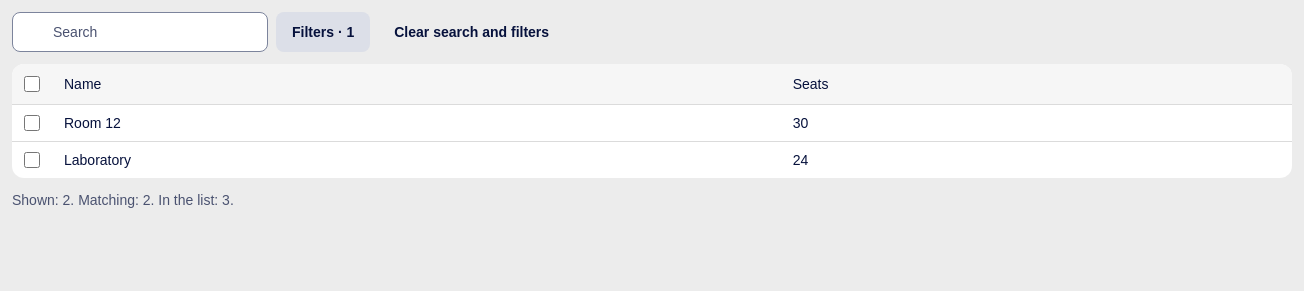
the filters of a list at phone width › folds them behind "Filters" with the number in use, and opens them
expect the search field labelled "Search" is shown: met, box [12,12,268,52]
Click the button "Filters · 1".
click(323, 32)  # box [276,12,370,52]
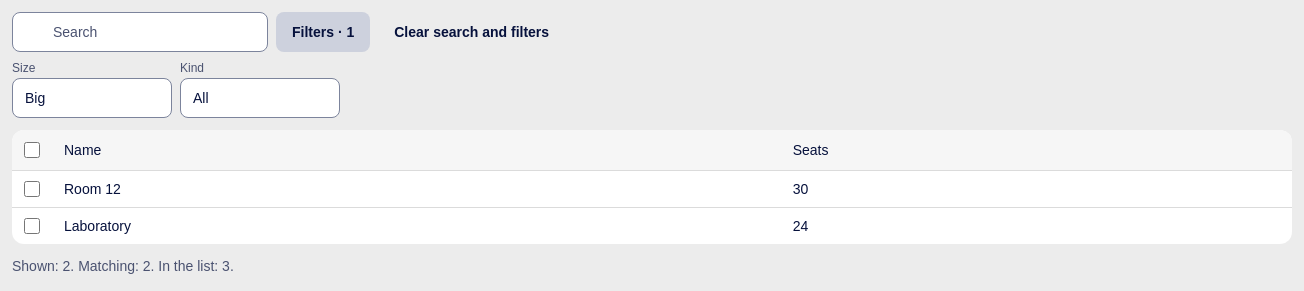
expect the dropdown labelled "Size" shows "Big": met, box [12,78,172,118]
